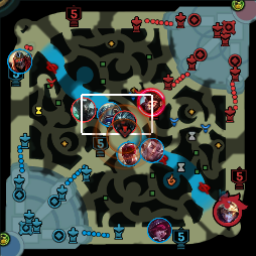ezreal: (216, 199, 239, 222)
fizz: (97, 101, 121, 126)
karthus: (113, 109, 135, 133)
leesin: (116, 141, 141, 166)
monkeyking: (139, 91, 163, 114)
mordekaiser: (70, 96, 95, 122)
rakan: (140, 137, 162, 162)
xayah: (147, 217, 171, 242)
zed: (7, 49, 30, 73)
